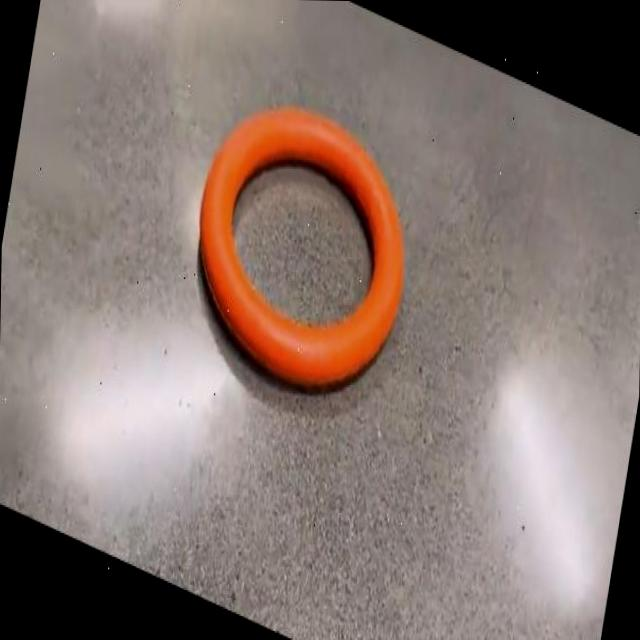note: (199, 107, 403, 387)
